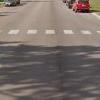Crosswalk: (4, 24, 99, 49)
